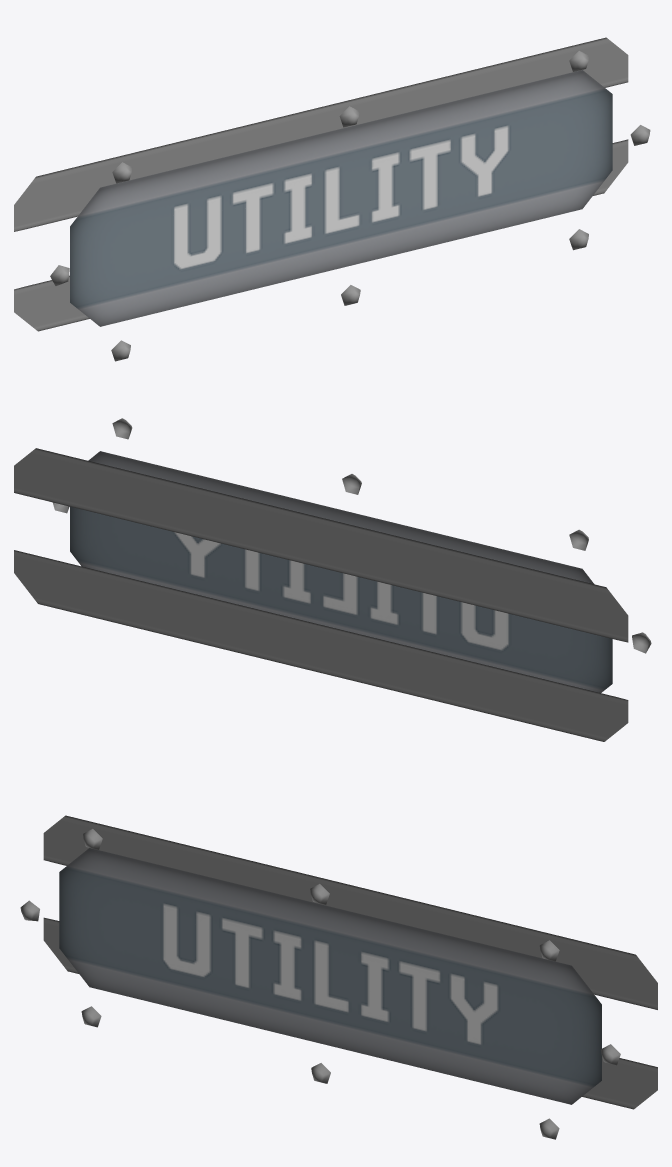
Rendered from obj_decor_sign_utility.fbx.
The picture shows the model from 3 angles, top to bottom: view 1: azimuth 30°, elevation 25°; view 2: azimuth 150°, elevation 25°; view 3: azimuth 330°, elevation 25°; orthographic projection.
Visible parts, largest first — view 1: obj_decor_sign_utility; view 2: obj_decor_sign_utility; view 3: obj_decor_sign_utility.
Part boxes in pixels (box(x1,y1,x2,y2)): obj_decor_sign_utility: box(14, 37, 650, 361); obj_decor_sign_utility: box(14, 418, 651, 741); obj_decor_sign_utility: box(20, 815, 657, 1139).
Bounding box in the file's own units: 6 × 2 × 0.5823.
